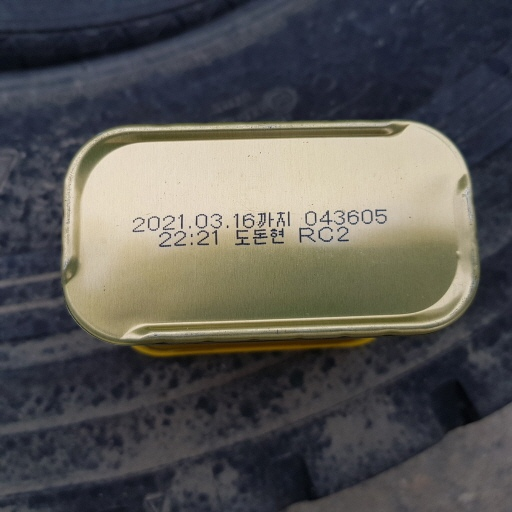Metal_2: (59, 115, 480, 359)
